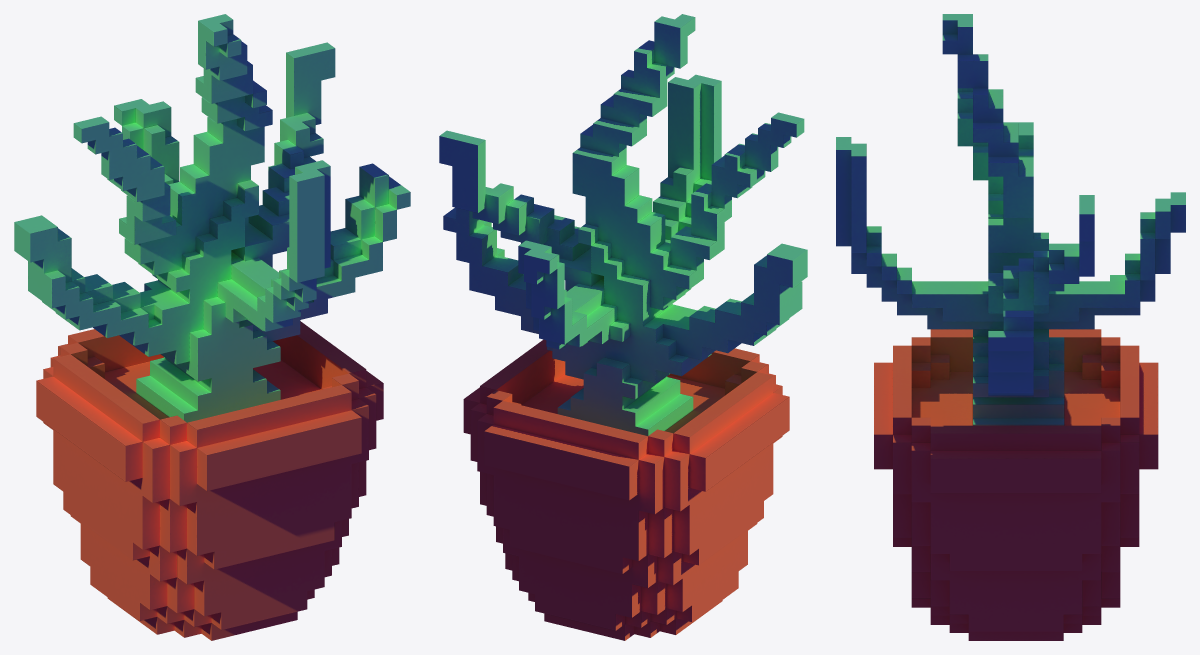
File: Computer.gltf
3 renders of one model, left to right at view 1: azimuth 30°, elevation 25°; view 2: azimuth 150°, elevation 25°; view 3: azimuth 270°, elevation 25°, orthographic. The views are drawn at different scales.
Visible parts, largest first — view 1: b.001; view 2: b.001; view 3: b.001.
Part boxes in pixels (x1,y1,x2,y2): b.001: (14, 14, 410, 640); b.001: (439, 14, 807, 640); b.001: (836, 14, 1185, 640).
Size of the model in its own units: 0.5221 by 0.8065 by 0.4448.
1 material, 1 textured.
